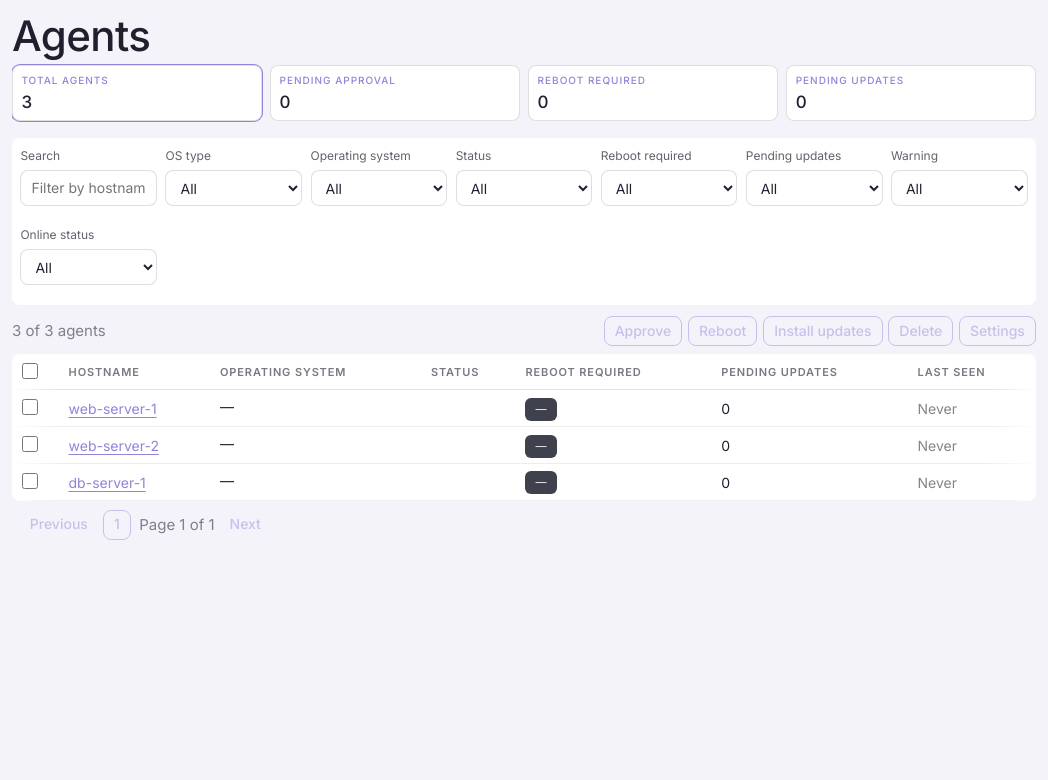
Test case: AgentsListPage › filters by hostname as the user types in the search box
Expected: the link "web-server-1" is shown, [68, 400, 156, 417]
Type "web" into the field labelled "Search". click: (89, 188)
box: [20, 170, 157, 206]
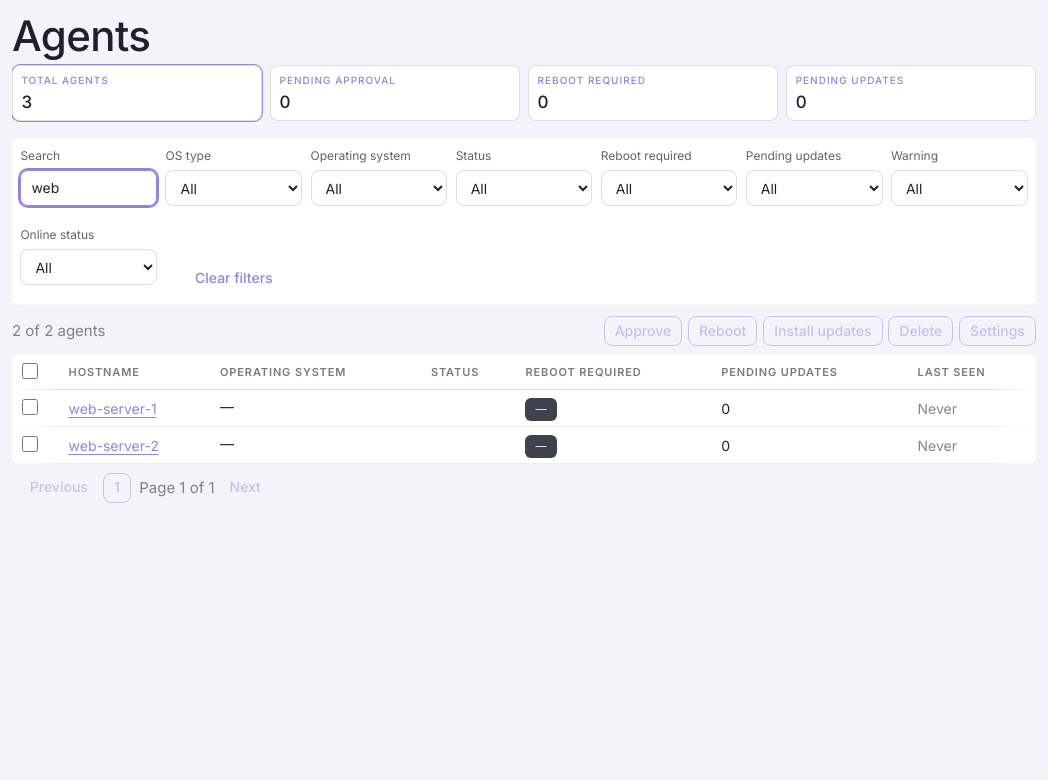
Expected: the link "web-server-1" is shown, [68, 400, 156, 417]
Now the link "db-server-1" is gone
Replace the text in the field labelled "Search" with "DB-SERVER". click: (89, 188)
box: [20, 170, 157, 206]
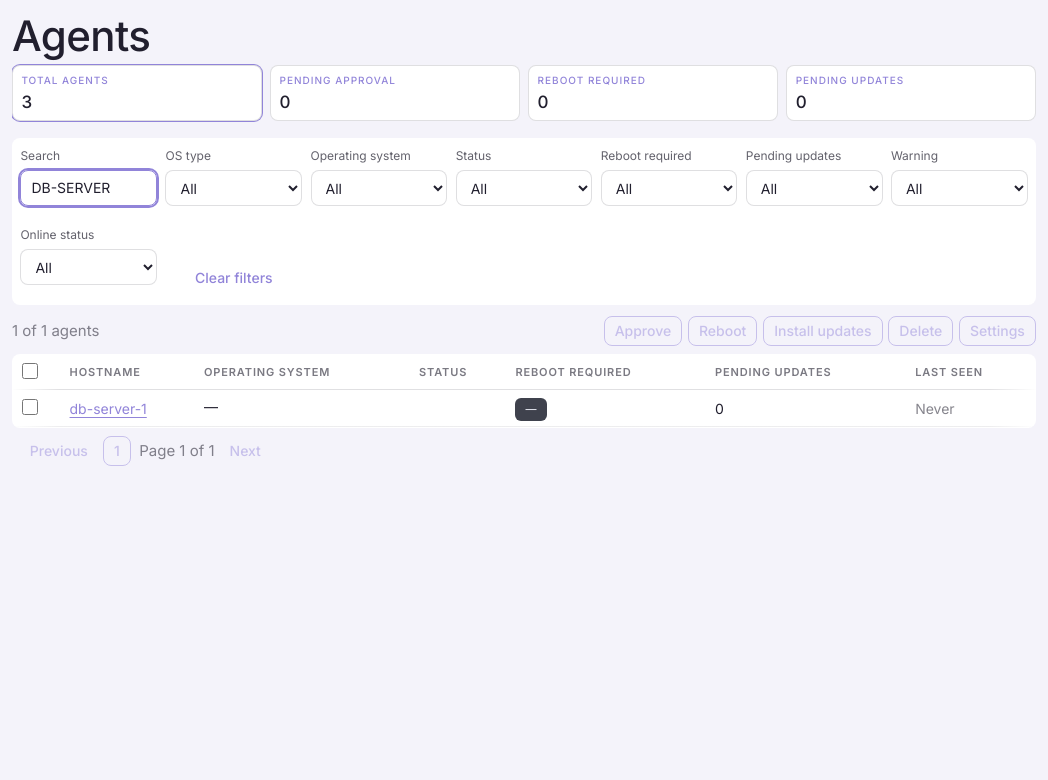
Now the link "db-server-1" is shown, box [70, 400, 147, 417]
Now the link "web-server-1" is gone
Click the button "Clear filters". click: (234, 278)
box: [166, 260, 302, 296]
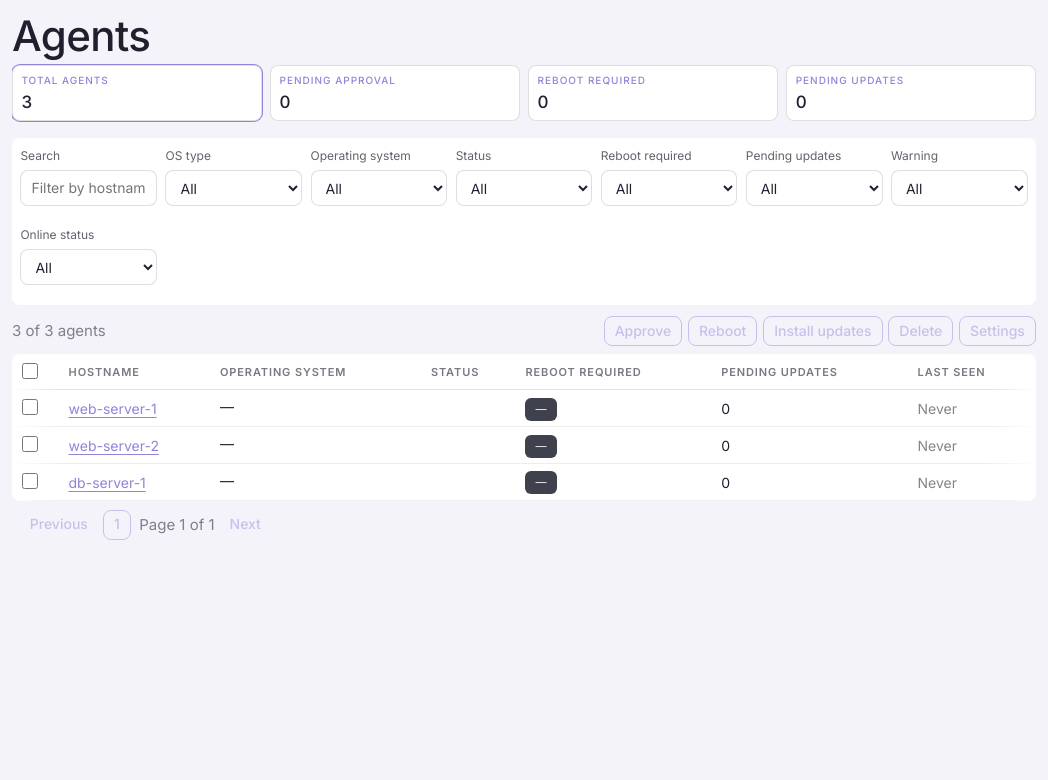
Now the link "db-server-1" is shown, box [68, 474, 146, 491]
Now the link "web-server-1" is shown, box [68, 400, 156, 417]
